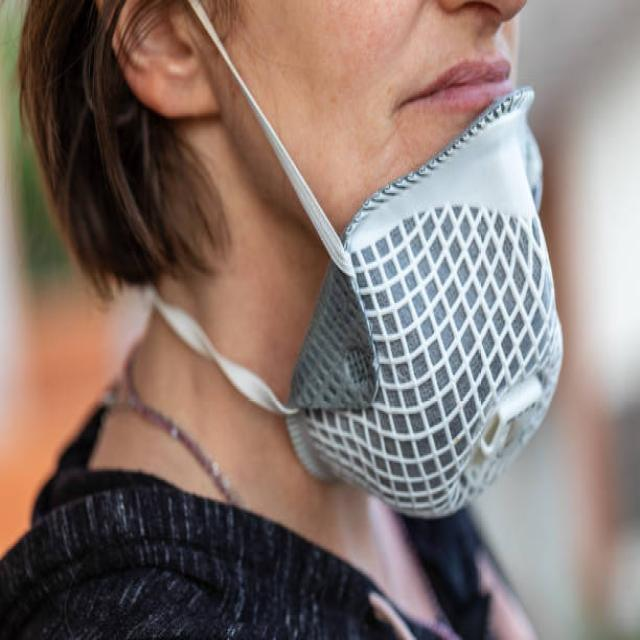hairnet: (180, 0, 566, 526)
